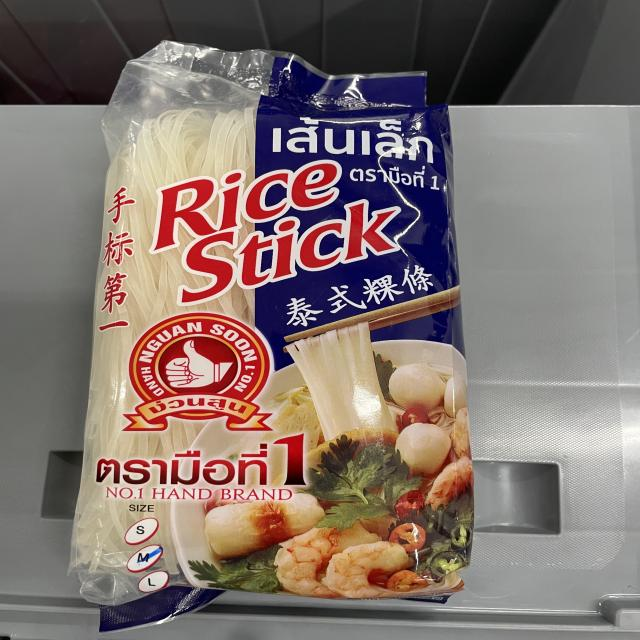object_name: (103, 64, 474, 599)
